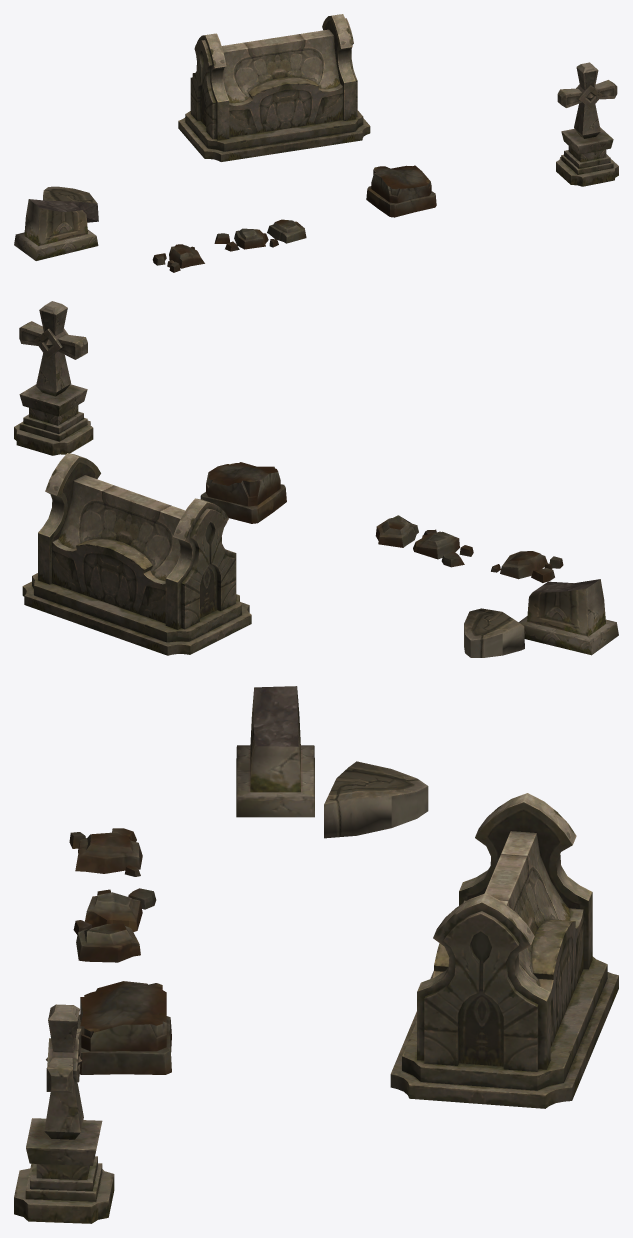
Rendered from mesh_raid3_prop1.FBX.
The picture shows the model from 3 angles, top to bottom: view 1: azimuth 30°, elevation 25°; view 2: azimuth 150°, elevation 25°; view 3: azimuth 270°, elevation 25°; orthographic projection. The views are drawn at different scales.
Visible parts, largest first — view 1: mesh_raid3_prop1; view 2: mesh_raid3_prop1; view 3: mesh_raid3_prop1.
Boxes of the visible parts, <box> form: mesh_raid3_prop1: <box>14,14,618,272</box>; mesh_raid3_prop1: <box>14,301,618,657</box>; mesh_raid3_prop1: <box>14,686,618,1223</box>.
Size of the model in its own units: 13.97 by 2.75 by 7.7.
